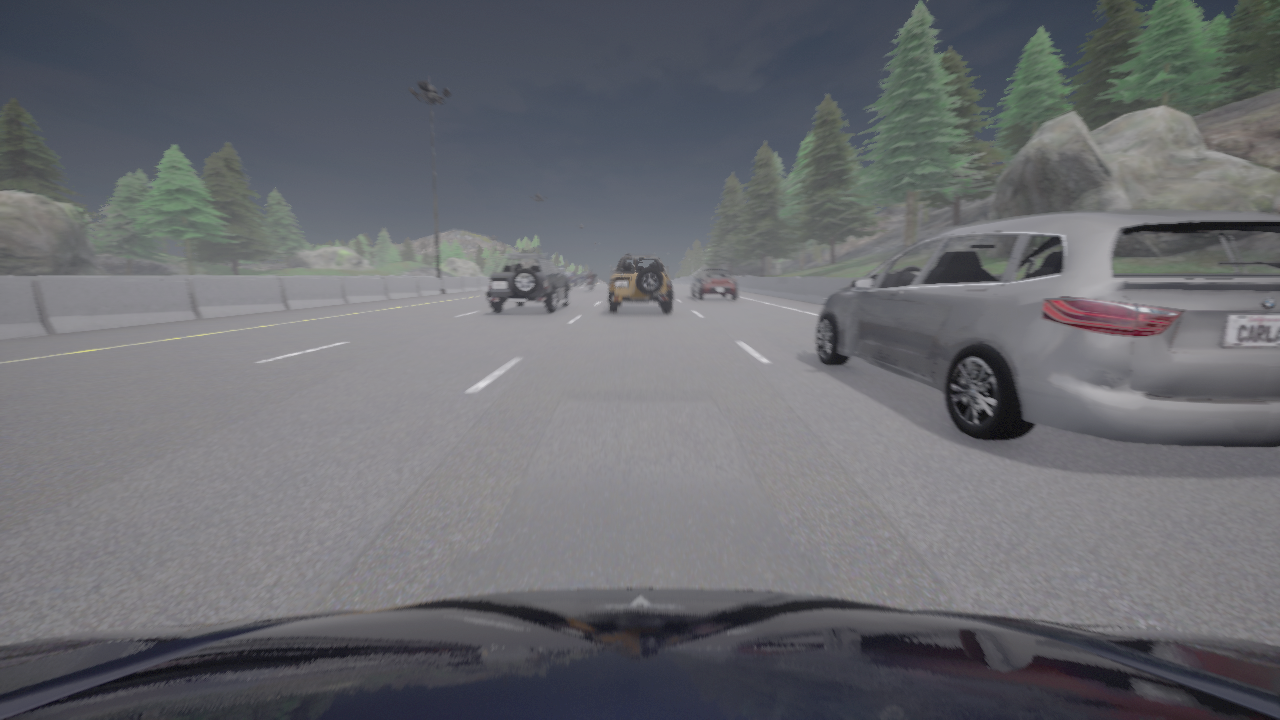cyclist: (0, 588, 1279, 719), (815, 210, 1279, 447), (485, 253, 570, 313), (608, 253, 672, 312), (691, 268, 737, 300), (562, 271, 580, 286), (586, 275, 596, 290), (579, 272, 587, 283)
